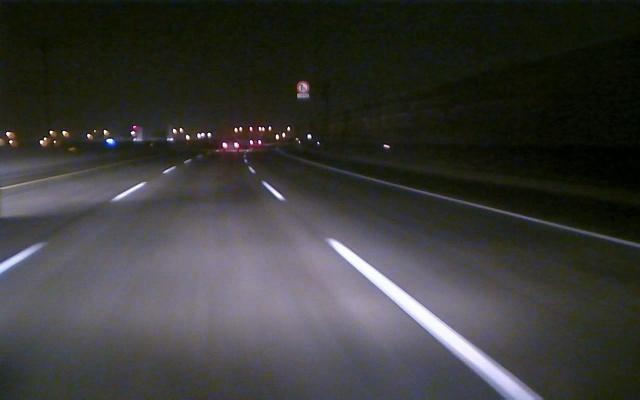lane: (260, 181, 544, 398), (332, 168, 639, 249), (1, 189, 130, 273)
